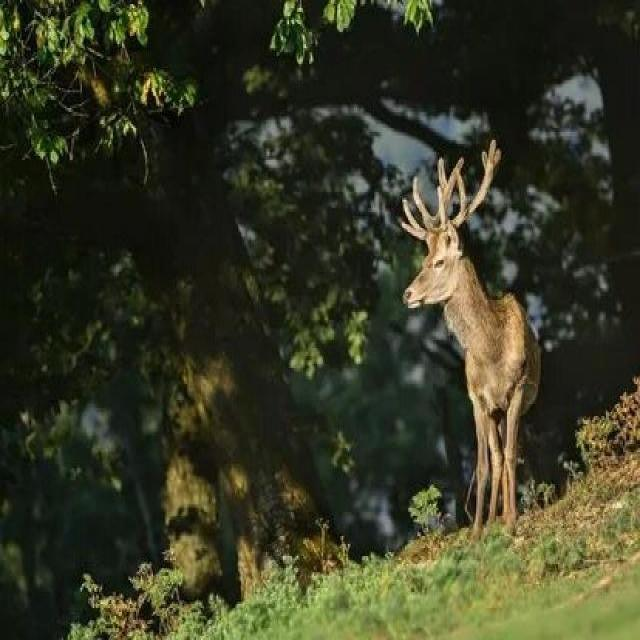deer: (313, 103, 640, 445)
